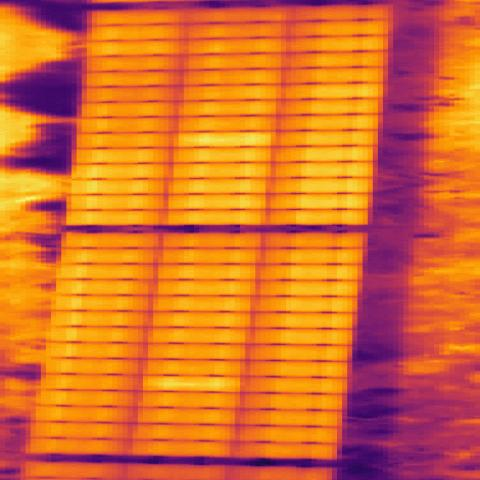fault: (174, 132, 271, 146), (152, 376, 233, 389)
